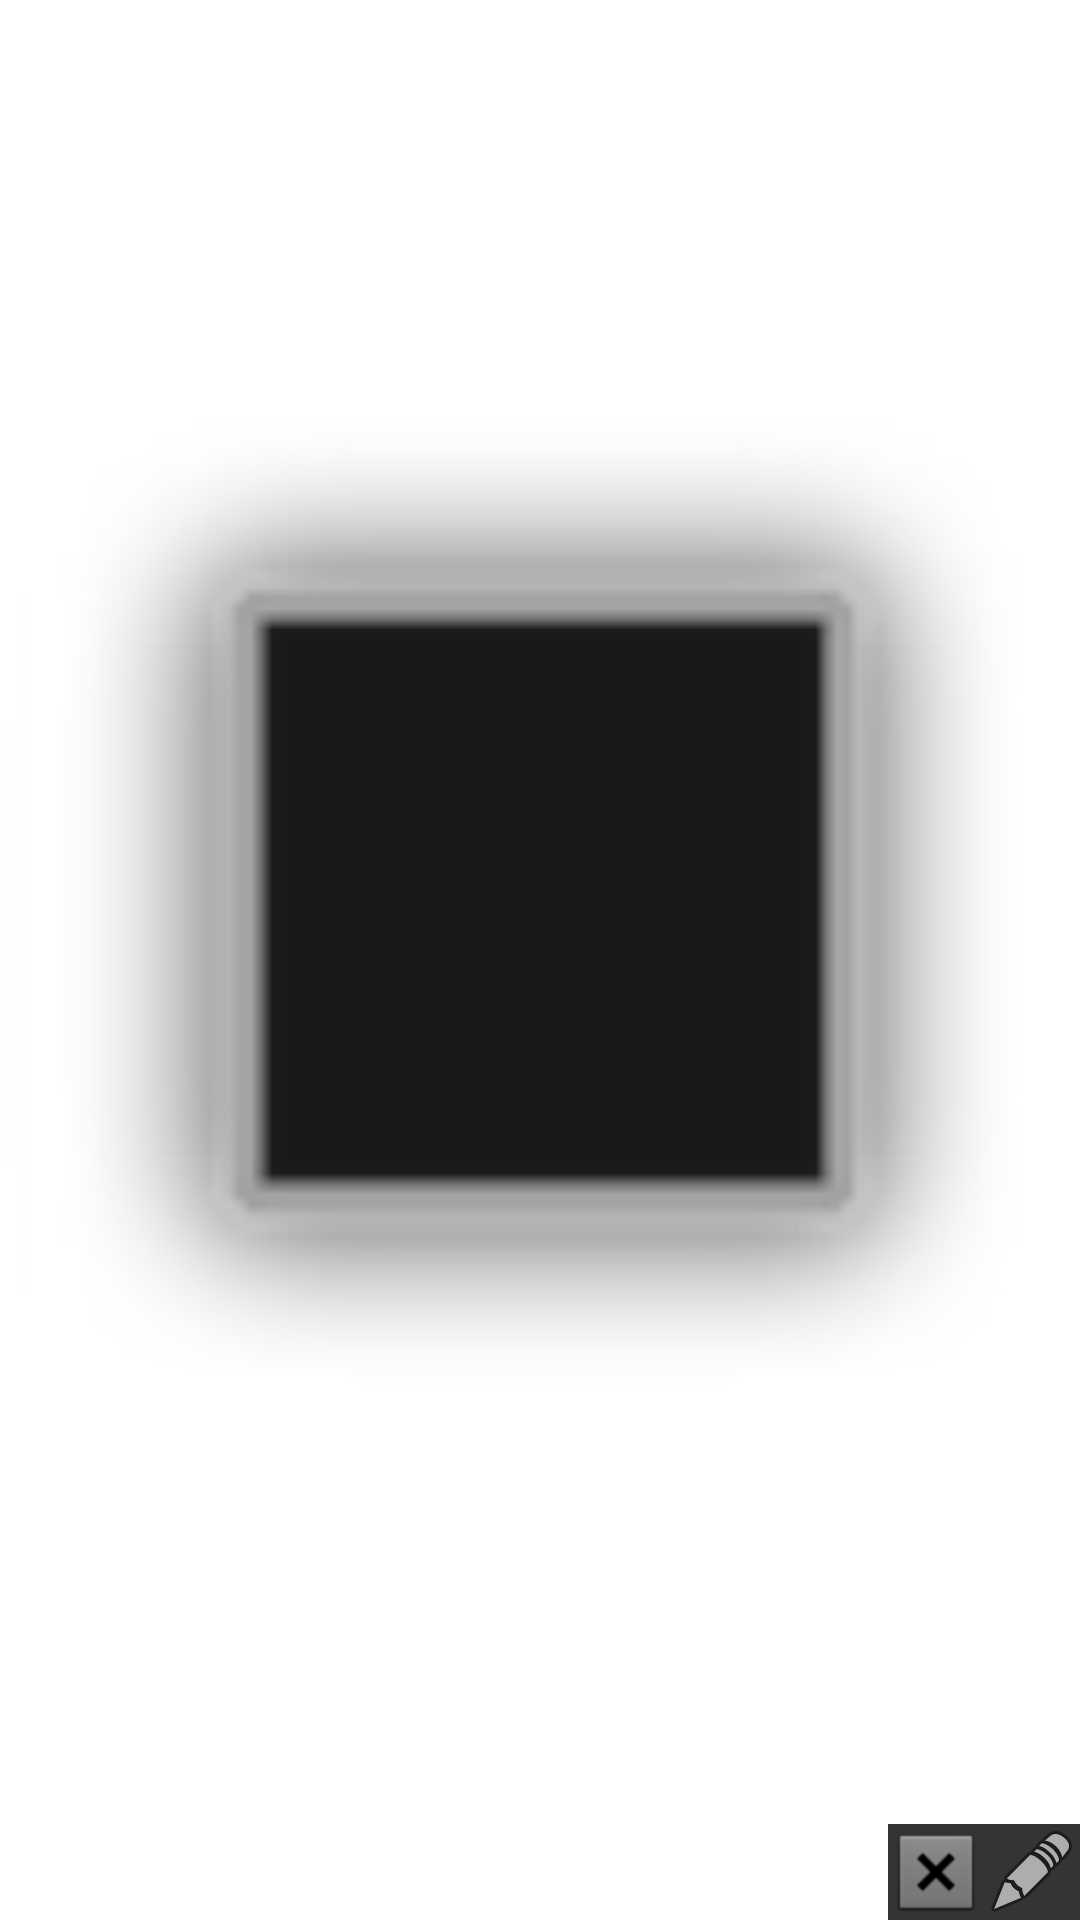

Icons on this 1080x1920 Android screen, each with its box as bbox=[x1, y1, x2, y2]:
edit: bbox=[993, 1833, 1070, 1910]
